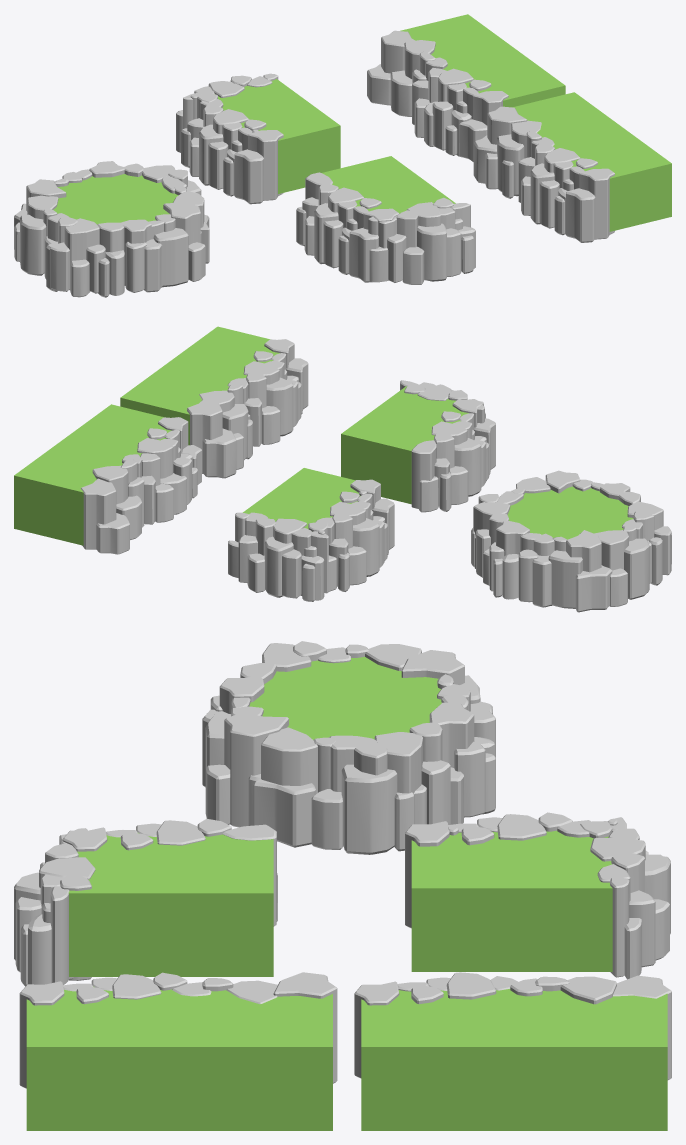
3 renders of one model, top to bottom at view 1: azimuth 30°, elevation 25°; view 2: azimuth 150°, elevation 25°; view 3: azimuth 270°, elevation 25°, orthographic. The views are drawn at different scales.
Parts seen in each view (by area): view 1: 5_Rock.8_0, 2_Rock.3_0, 3_Rock.5_0, 4_Rock.7_0, 3_Ground_0, 1_Rock.1_0, 1_Ground_0, 4_Ground_0, 5_Ground_0, 2_Ground_0; view 2: 5_Rock.8_0, 1_Rock.1_0, 4_Rock.7_0, 3_Rock.5_0, 4_Ground_0, 2_Rock.3_0, 2_Ground_0, 3_Ground_0, 5_Ground_0, 1_Ground_0; view 3: 4_Ground_0, 3_Ground_0, 5_Rock.8_0, 2_Ground_0, 1_Ground_0, 1_Rock.1_0, 2_Rock.3_0, 5_Ground_0, 3_Rock.5_0, 4_Rock.7_0.
Boxes of the visible parts, bbox=[...] form: 5_Rock.8_0: bbox=[14, 161, 209, 297]; 2_Rock.3_0: bbox=[296, 172, 475, 284]; 3_Rock.5_0: bbox=[473, 106, 614, 242]; 4_Rock.7_0: bbox=[367, 30, 508, 161]; 3_Ground_0: bbox=[513, 92, 671, 231]; 1_Rock.1_0: bbox=[176, 73, 283, 204]; 1_Ground_0: bbox=[218, 79, 340, 193]; 4_Ground_0: bbox=[400, 14, 565, 107]; 5_Ground_0: bbox=[53, 174, 178, 224]; 2_Ground_0: bbox=[322, 156, 455, 213]; 5_Rock.8_0: bbox=[471, 470, 671, 612]; 1_Rock.1_0: bbox=[228, 479, 394, 601]; 4_Rock.7_0: bbox=[81, 417, 201, 554]; 3_Rock.5_0: bbox=[187, 339, 308, 478]; 4_Ground_0: bbox=[14, 404, 171, 545]; 2_Rock.3_0: bbox=[400, 380, 495, 512]; 2_Ground_0: bbox=[341, 386, 468, 504]; 3_Ground_0: bbox=[120, 326, 279, 445]; 5_Ground_0: bbox=[507, 486, 633, 539]; 1_Ground_0: bbox=[243, 468, 360, 529]; 4_Ground_0: bbox=[361, 989, 667, 1130]; 3_Ground_0: bbox=[26, 986, 332, 1130]; 5_Rock.8_0: bbox=[202, 641, 495, 854]; 2_Ground_0: bbox=[68, 833, 273, 976]; 1_Ground_0: bbox=[411, 830, 612, 971]; 1_Rock.1_0: bbox=[405, 812, 670, 979]; 2_Rock.3_0: bbox=[14, 818, 277, 986]; 5_Ground_0: bbox=[249, 656, 441, 739]; 3_Rock.5_0: bbox=[19, 972, 337, 1088]; 4_Rock.7_0: bbox=[354, 972, 671, 1079].
Bounding box in the file's own units: 16444 × 1945 × 11056.
